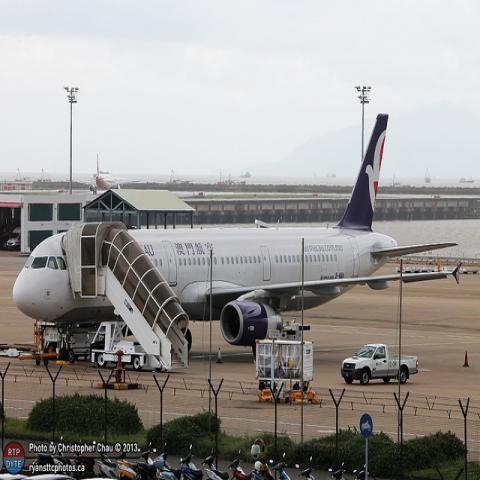motorcycle: (155, 444, 201, 480), (117, 442, 154, 479), (228, 448, 262, 479), (201, 445, 231, 479), (133, 453, 165, 479), (295, 455, 319, 479), (253, 457, 274, 479), (328, 460, 346, 480), (179, 468, 204, 479)
truck: (341, 343, 418, 386), (91, 321, 150, 371)
